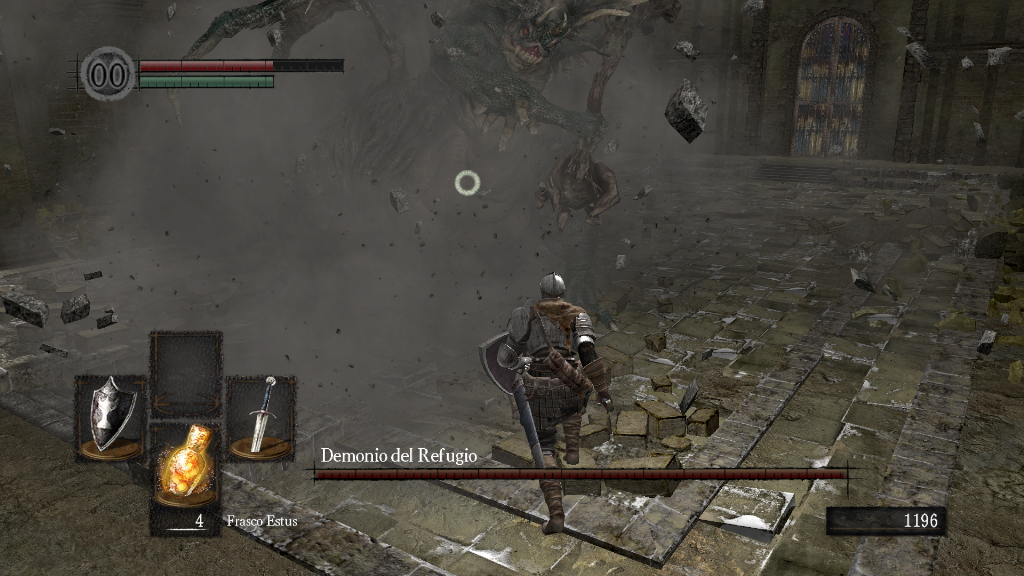asylumDemon: (182, 1, 680, 269)
bossHP: (314, 469, 847, 479)
health: (138, 58, 343, 71)
humanity: (80, 45, 136, 102)
player: (477, 269, 617, 538)
souls: (825, 506, 945, 536)
stamina: (138, 74, 274, 88)
